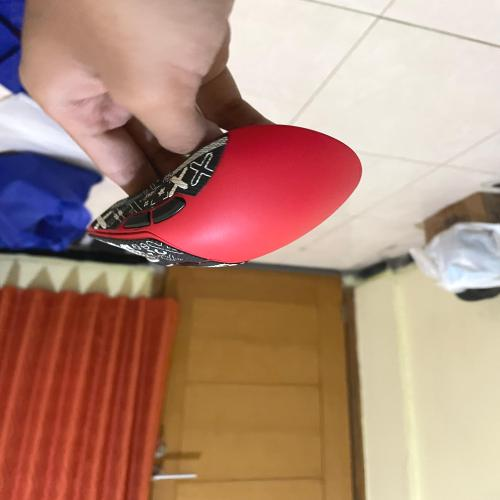Mouse: (77, 118, 386, 278)
